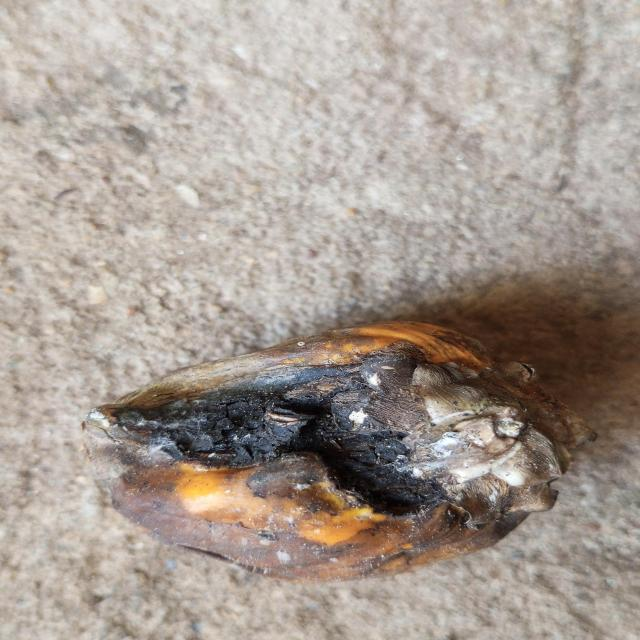damaged: (84, 309, 582, 585)
